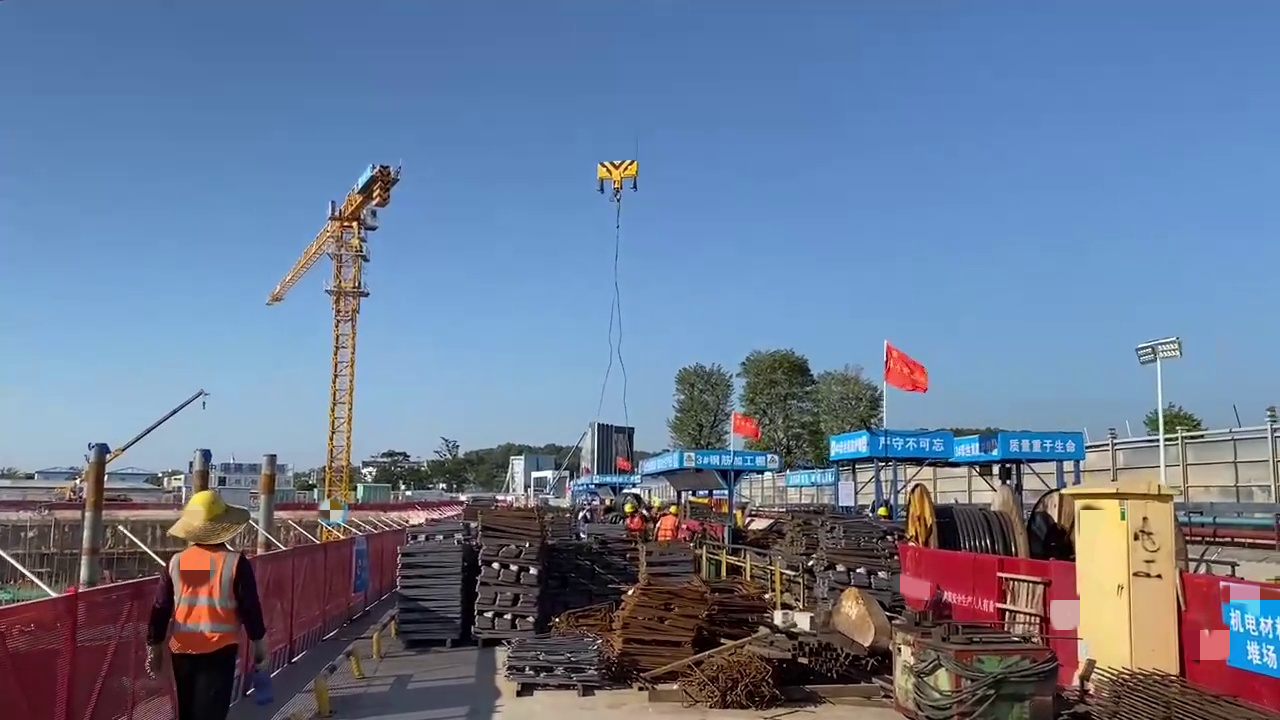ebox: (1071, 482, 1182, 667)
fence: (887, 545, 1073, 655), (5, 573, 137, 719), (266, 538, 391, 664), (1184, 573, 1280, 713)
helmet: (190, 491, 227, 520)
hook: (594, 160, 642, 193)
person: (148, 491, 262, 720), (655, 501, 682, 541), (621, 499, 646, 538)
rebar: (475, 504, 548, 647), (613, 573, 700, 682), (397, 524, 471, 643), (1073, 672, 1254, 720), (682, 638, 773, 717), (812, 518, 883, 617), (794, 635, 874, 685), (555, 610, 628, 649)
slogan: (1004, 434, 1088, 457), (875, 431, 947, 454), (941, 587, 991, 613)
vest: (162, 551, 249, 660), (656, 515, 678, 543)
